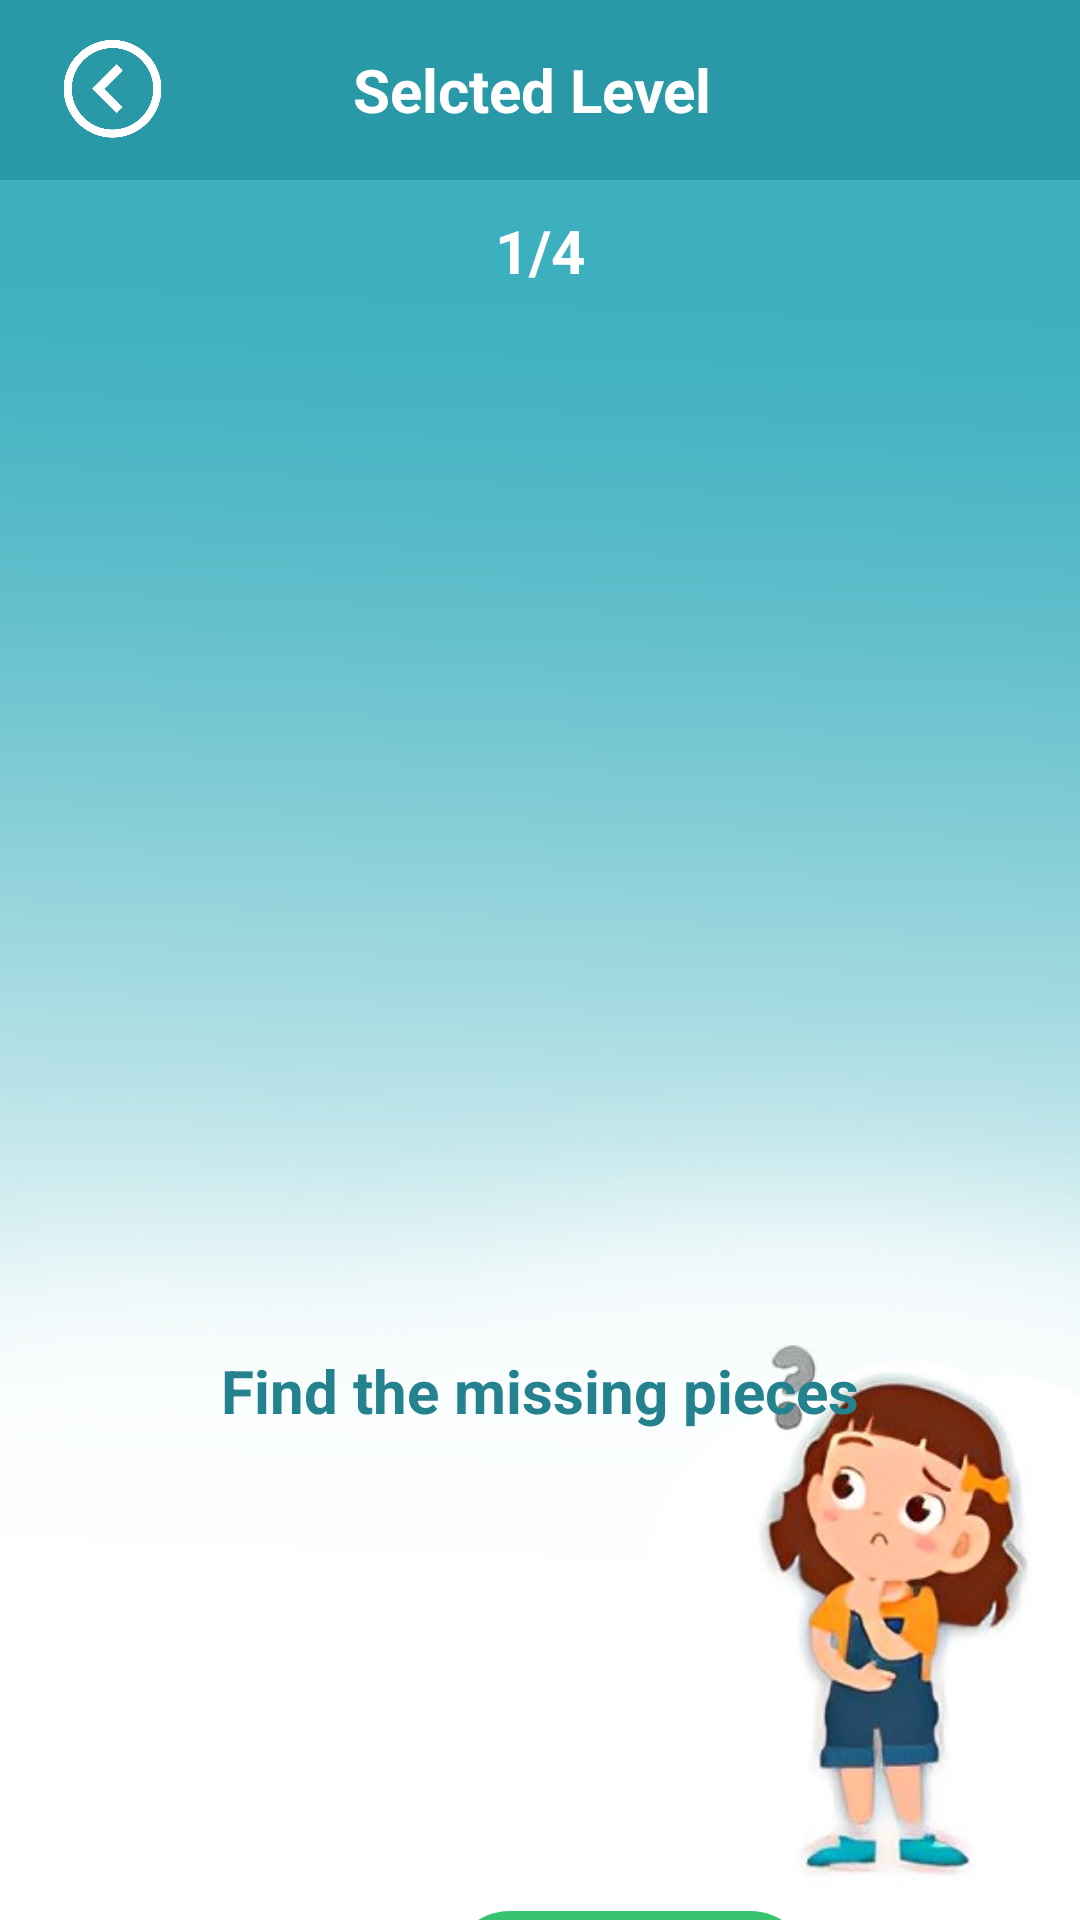

Screen size 1080 x 1920. Icon name, then its center in pixels as (x=x, y=y):
back: (x=113, y=89)
